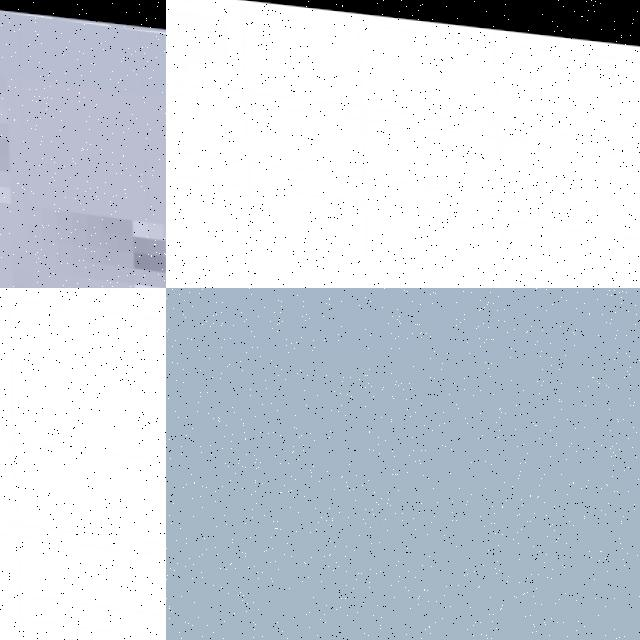0: (0, 0, 166, 288)
drone: (166, 0, 640, 288), (0, 288, 166, 640)
